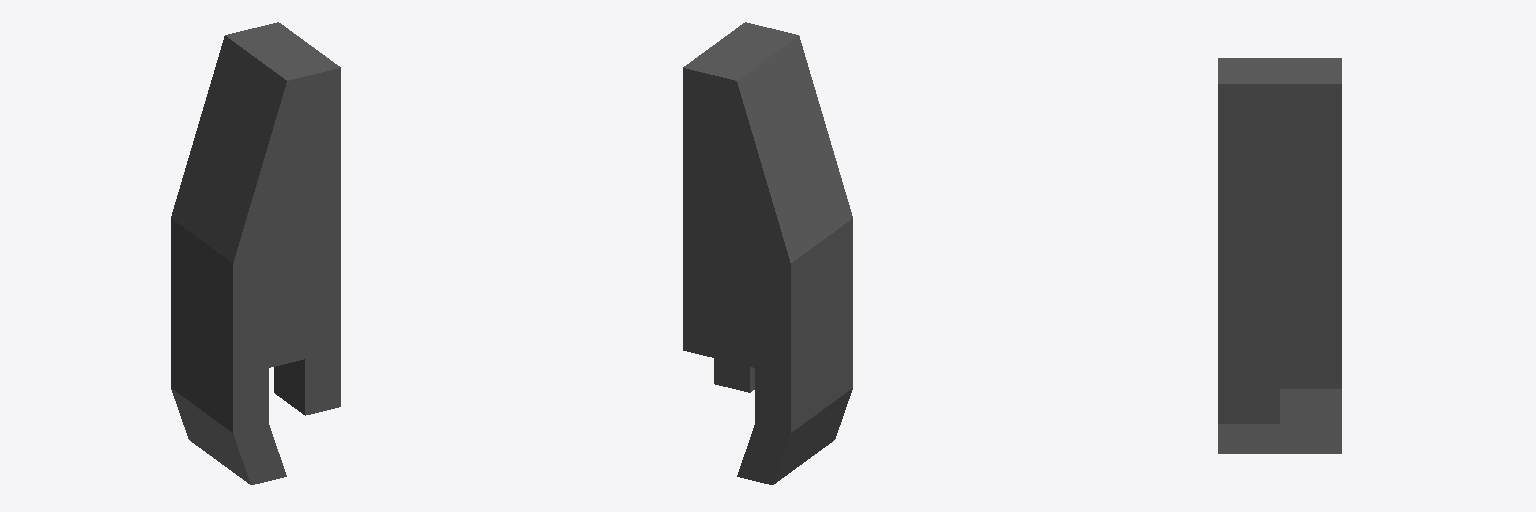
The model's file is playerRArm.obj.
3 renders of one model, left to right at view 1: azimuth 30°, elevation 25°; view 2: azimuth 150°, elevation 25°; view 3: azimuth 270°, elevation 25°, orthographic.
Visible parts, largest first — view 1: ArmRight1; view 2: ArmRight1; view 3: ArmRight1.
Boxes of the visible parts, x1=… form: ArmRight1: x1=171, y1=22, x2=340, y2=484; ArmRight1: x1=683, y1=22, x2=852, y2=484; ArmRight1: x1=1218, y1=58, x2=1341, y2=453.
Bounding box in the file's own units: 2 × 7 × 2.